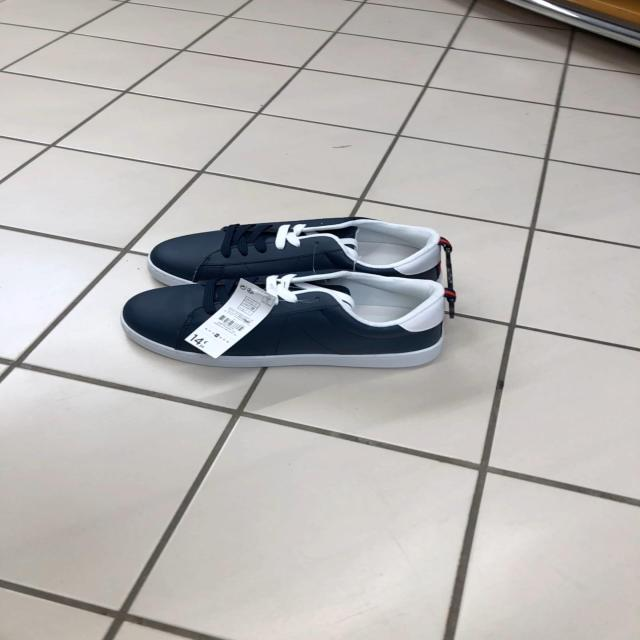shoe: (130, 278, 447, 370), (148, 218, 454, 298)
